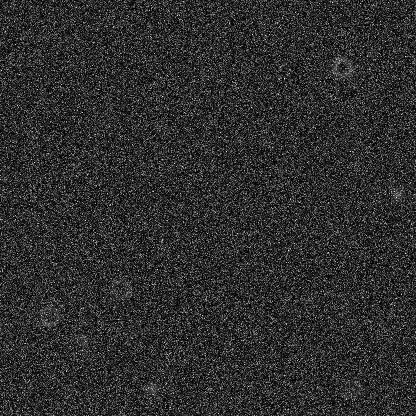Ring: (108, 277, 132, 301), (330, 55, 354, 79), (338, 377, 362, 401), (37, 303, 61, 327)
Spot: (389, 186, 405, 202), (73, 331, 89, 347), (143, 380, 159, 396), (77, 345, 93, 361)
